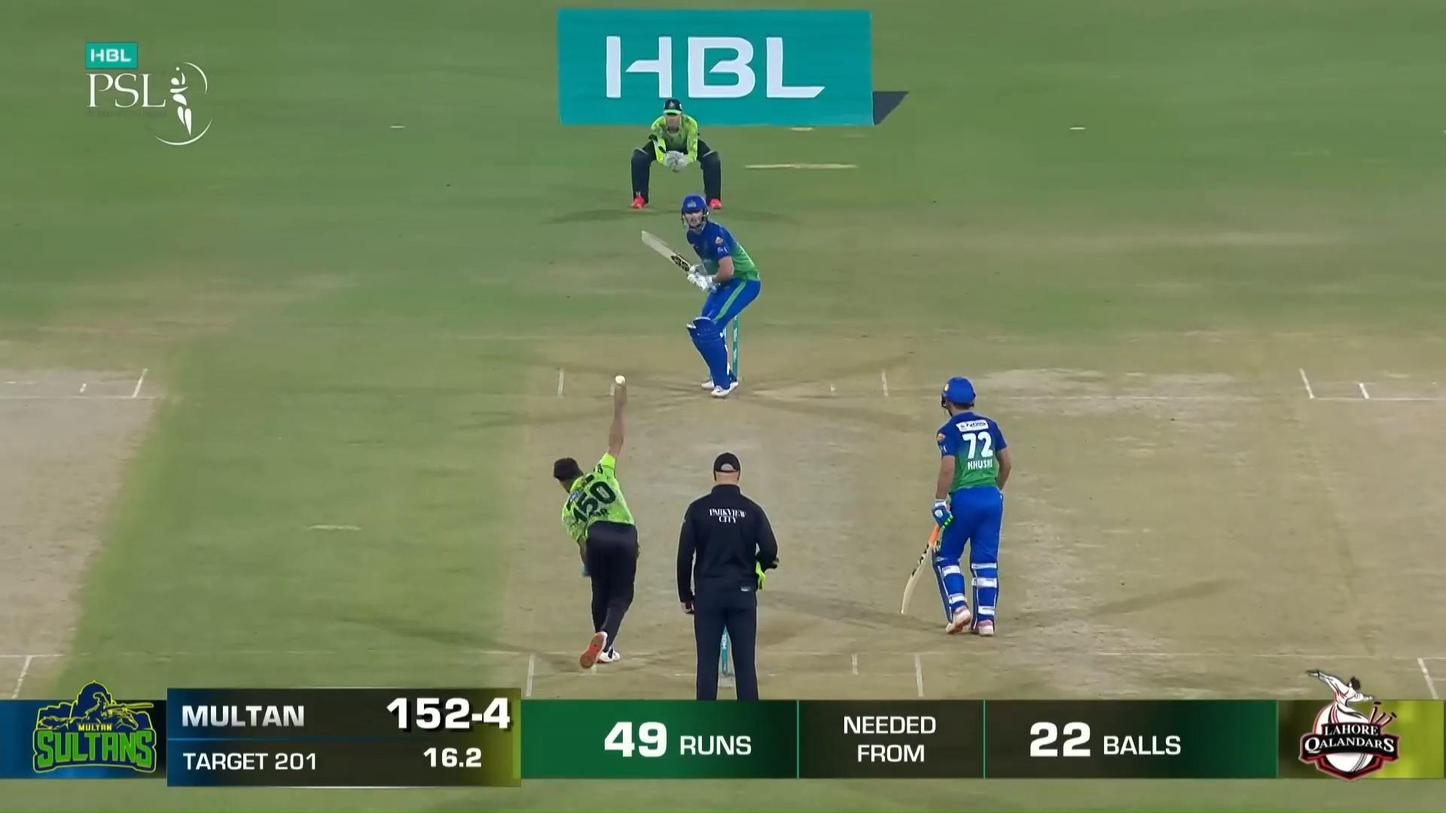batsman: (642, 193, 760, 397)
